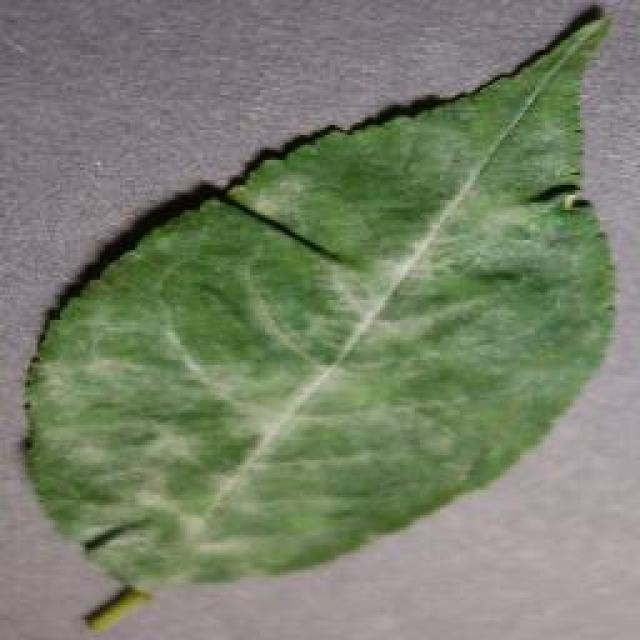Cherry___Powdery_mildew: (2, 12, 630, 638)
